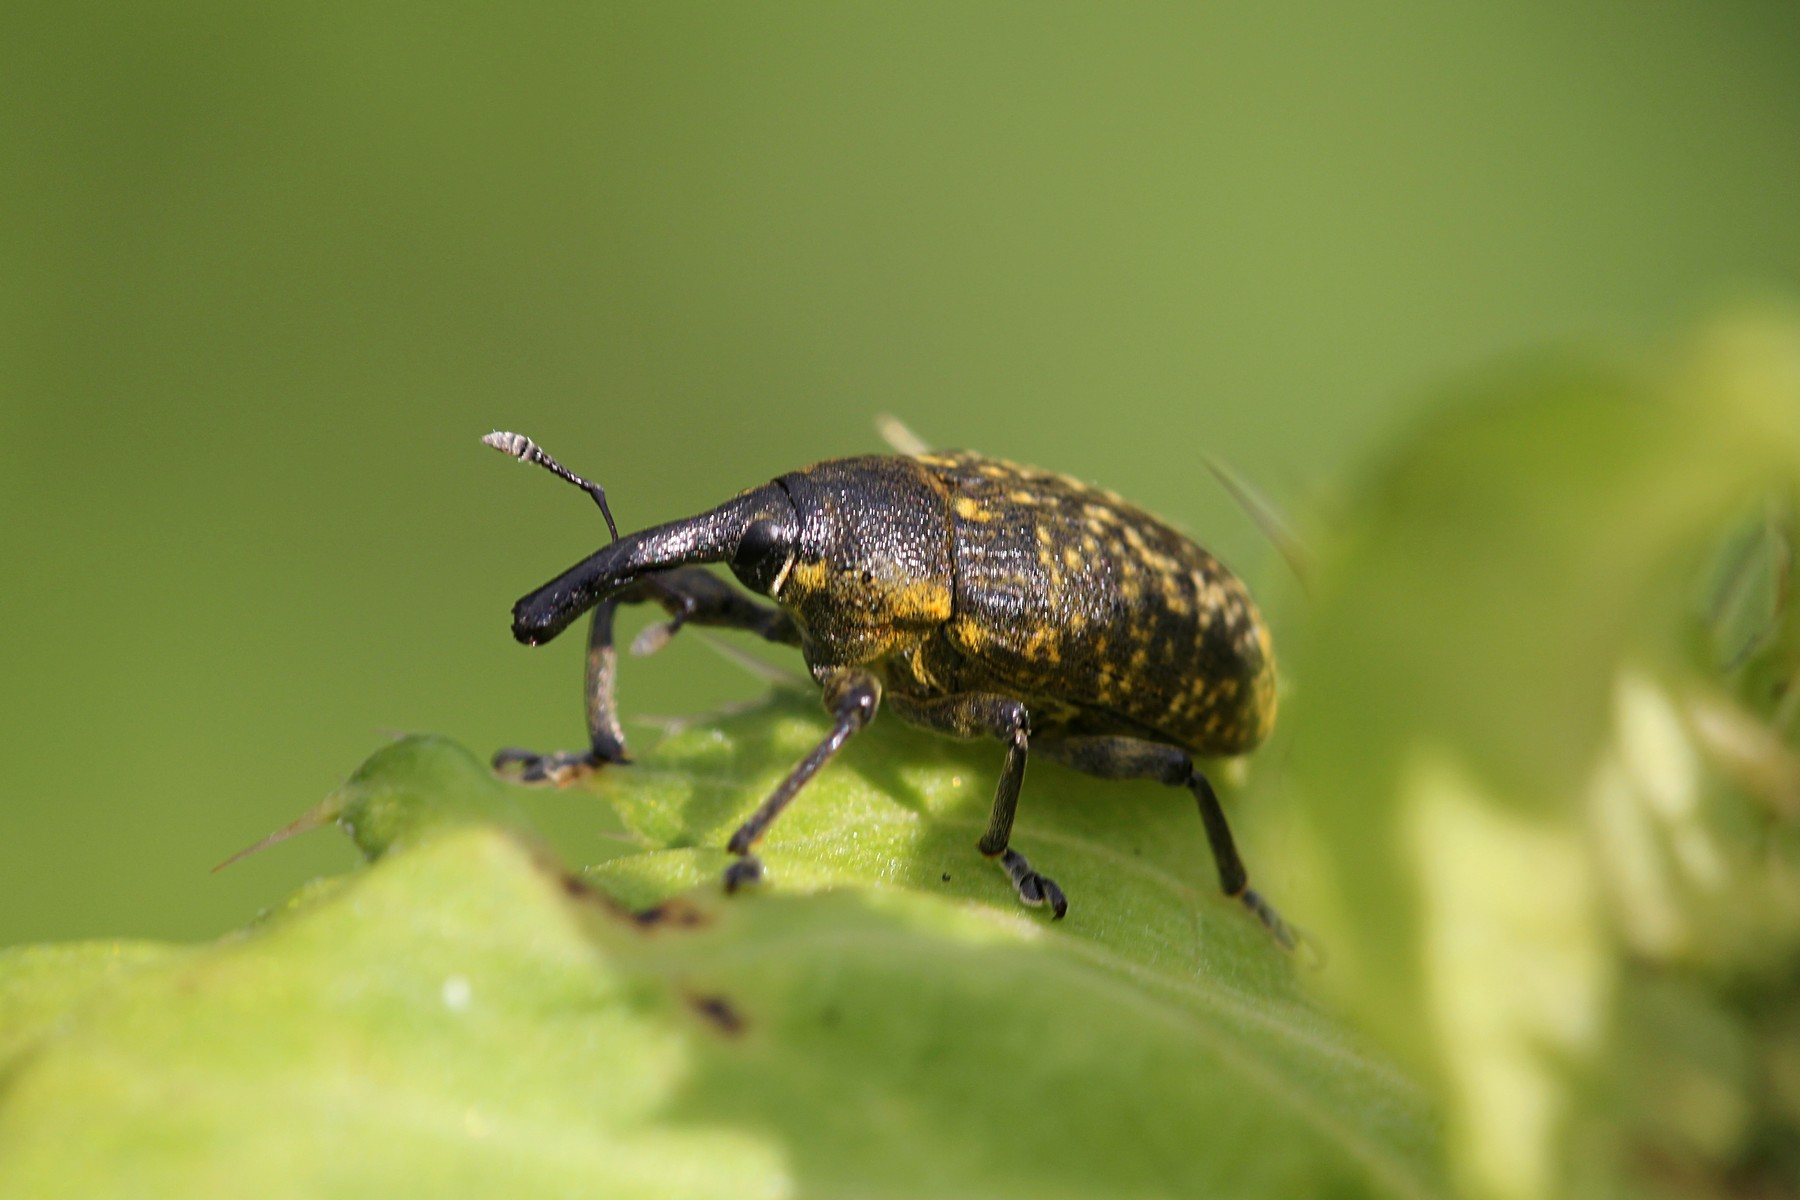dolgonosik: (473, 408, 1361, 978)
